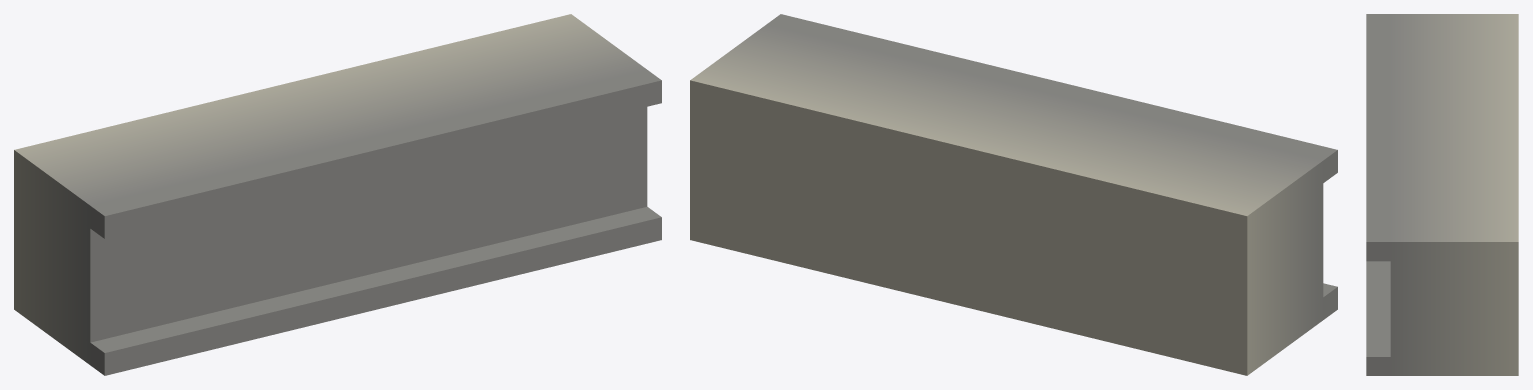
File: B02_intersection_etage_1.fbx
3 renders of one model, left to right at view 1: azimuth 30°, elevation 25°; view 2: azimuth 150°, elevation 25°; view 3: azimuth 270°, elevation 25°, orthographic. The views are drawn at different scales.
Parts seen in each view (by area): view 1: B02_intersection_etage_1; view 2: B02_intersection_etage_1; view 3: B02_intersection_etage_1.
Boxes of the visible parts, <box> form: B02_intersection_etage_1: <box>14,14,661,375</box>; B02_intersection_etage_1: <box>690,14,1337,375</box>; B02_intersection_etage_1: <box>1366,14,1518,375</box>.
Bounding box in the file's own units: 500 × 137 × 141.
